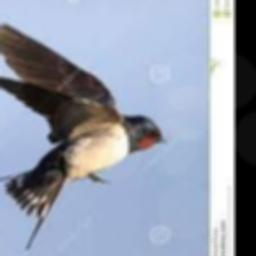Swallow: (0, 23, 167, 246)
